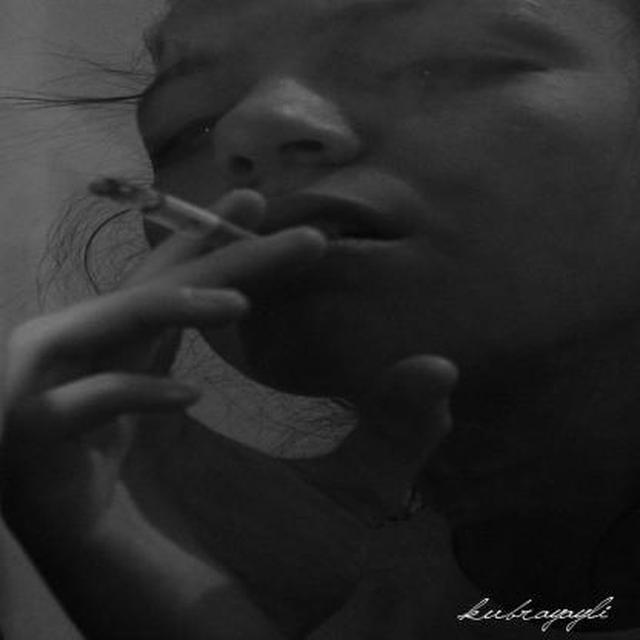smoking: (85, 169, 295, 251)
